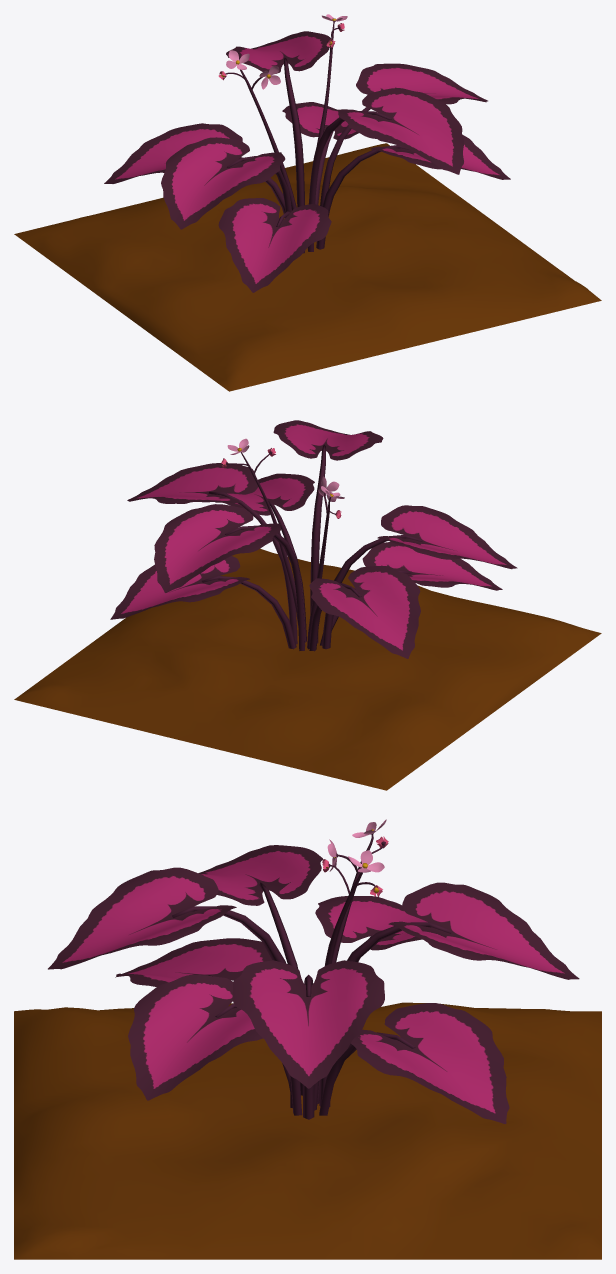
Rendered from begonia-rex-p2-bloom.glb.
3 renders of one model, top to bottom at view 1: azimuth 30°, elevation 25°; view 2: azimuth 150°, elevation 25°; view 3: azimuth 270°, elevation 25°, orthographic. The views are drawn at different scales.
Visible parts, largest first — view 1: 2_nft_bloom; view 2: 2_nft_bloom; view 3: 2_nft_bloom.
Boxes of the visible parts, x1,y1,x2,y2 form: 2_nft_bloom: (14, 14, 601, 391); 2_nft_bloom: (14, 420, 601, 790); 2_nft_bloom: (14, 819, 601, 1259).
Bounding box in the file's own units: 0.7 × 0.4074 × 0.7.
7 materials, 1 textured.
